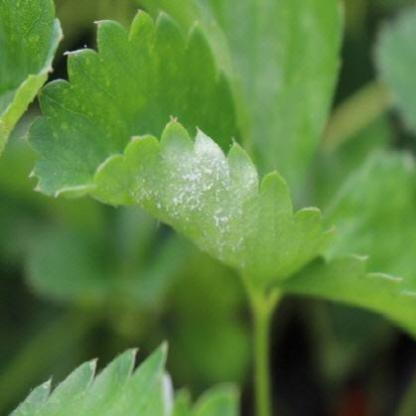Strawberry_Powdery_Mildew_Leaf: (23, 7, 338, 290)
